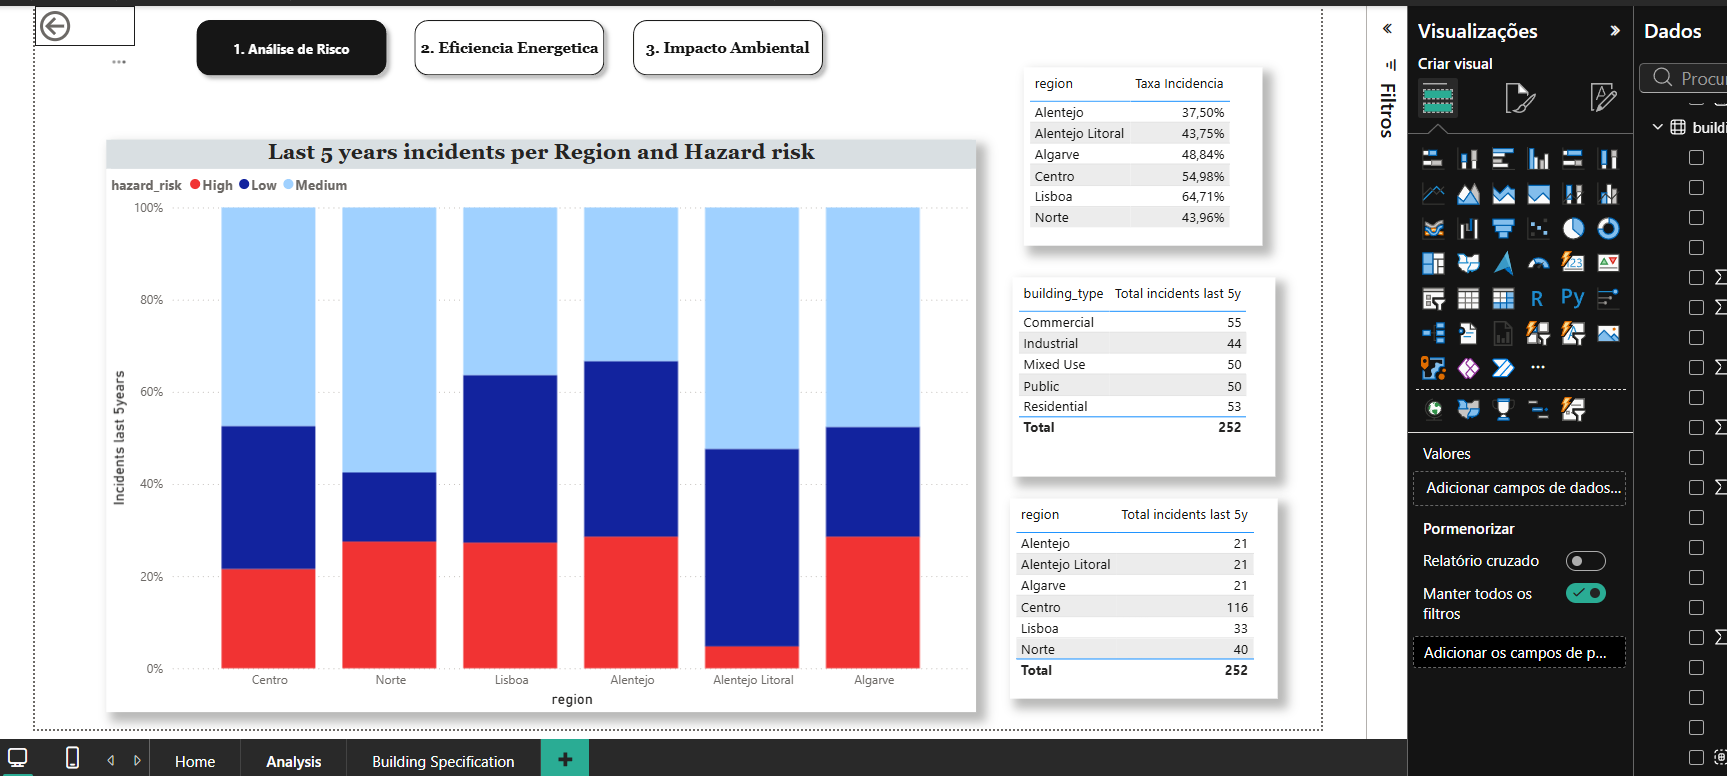

What the dashboard file says about the page in this screenshot:
{"tool":"powerbi","page":{"name":"Analysis","canvas":[1280,720],"ordinal":1},"visuals":[{"type":"hundredPercentStackedColumnChart","title":"Last 5 years incidents per Region and Hazard risk","fields":{"Category":["building_data.region"],"Series":["building_data.hazard_risk"],"Y":["Sum(building_data.incidents_last_5y)"]},"box":[70.9,133.1,865.8,569.7],"z":0},{"type":"bookmarkNavigator","box":[151.8,5,641.9,73.4],"z":3000},{"type":"tableEx","fields":{"Values":["building_data.building_type","Sum(building_data.incidents_last_5y)"]},"box":[972.3,270.4,261.7,198.1],"z":4000},{"type":"tableEx","fields":{"Values":["building_data.region","Sum(building_data.incidents_last_5y)"]},"box":[970.2,490.2,266.1,199.6],"z":5000},{"type":"tableEx","fields":{"Values":["building_data.region","Medidas.Taxa Incidencia"]},"box":[984.4,61,237.6,177.9],"z":6000},{"type":"actionButton","box":[0,0,100,40],"z":7000}]}

Visuals, with their boxes on the page's 1280x720 design canvas (x1, y1, x2, y2). These are canvas units, not pixel positions in the 1727x776 screenshot, which may show the page scaled, cropped or inside an application window:
"Last 5 years incidents per Region and Hazard risk" hundredPercentStackedColumnChart: left=71, top=133, right=937, bottom=703
bookmarkNavigator: left=152, top=5, right=794, bottom=78
tableEx - building_data.building_type x Sum(building_data.incidents_last_5y): left=972, top=270, right=1234, bottom=468
tableEx - building_data.region x Sum(building_data.incidents_last_5y): left=970, top=490, right=1236, bottom=690
tableEx - building_data.region x Medidas.Taxa Incidencia: left=984, top=61, right=1222, bottom=239
actionButton: left=0, top=0, right=100, bottom=40
